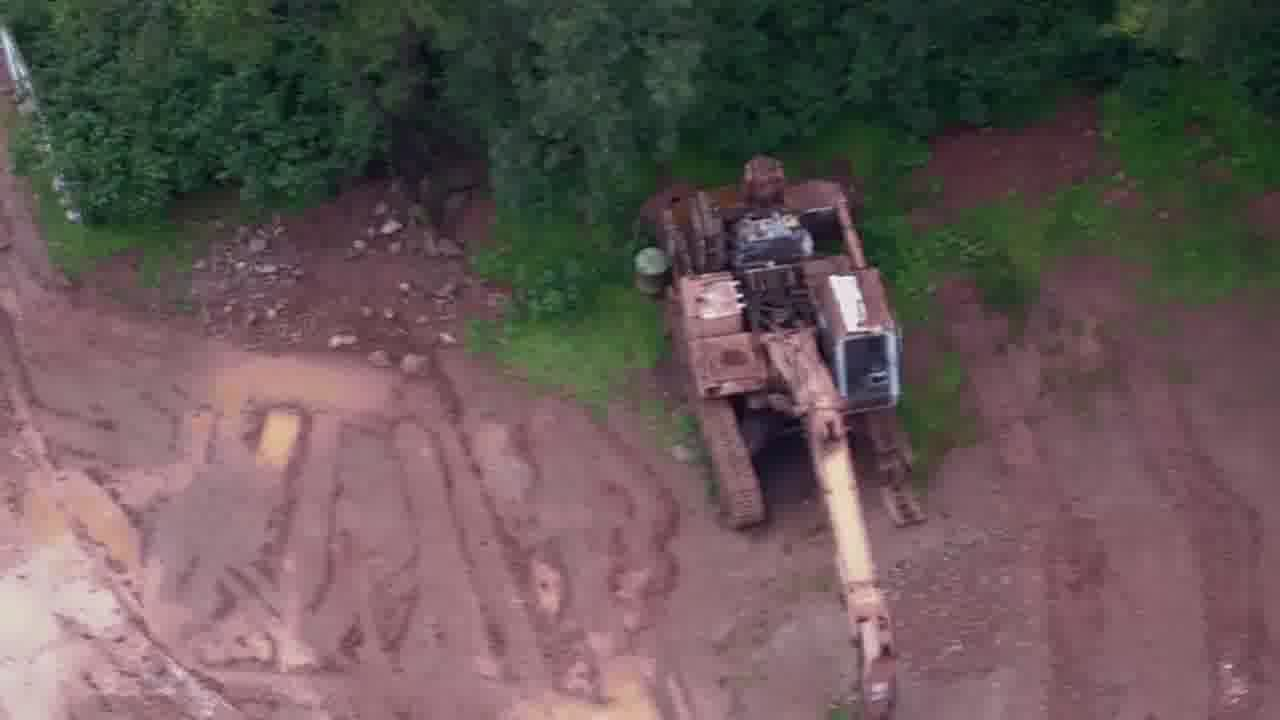HMV: (637, 143, 940, 705)
